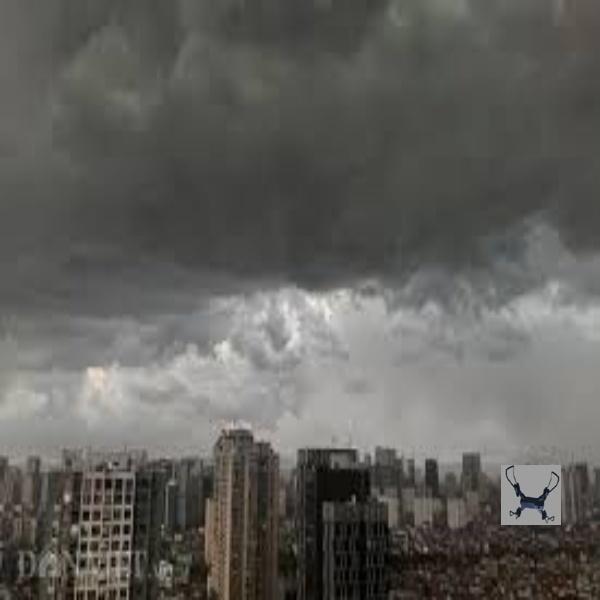drone: (502, 462, 563, 524)
